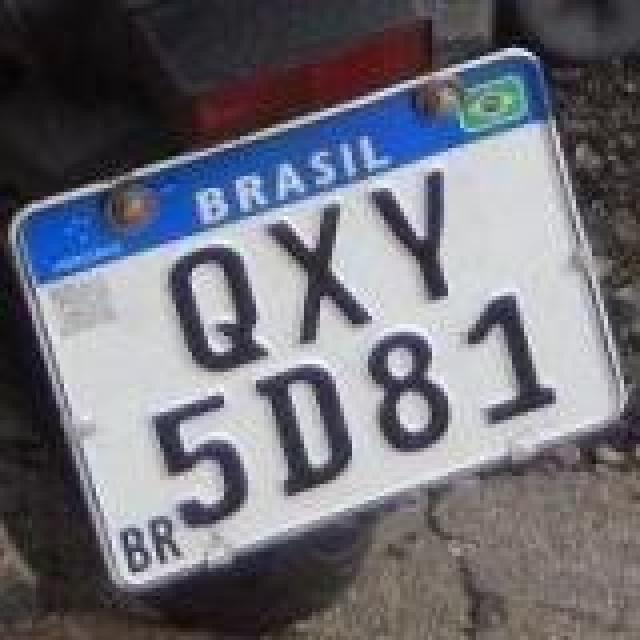1: (464, 292, 560, 428)
5: (150, 392, 250, 528)
8: (362, 330, 454, 454)
D: (252, 364, 356, 500)
Q: (166, 244, 274, 372)
X: (266, 200, 374, 344)
Y: (368, 170, 448, 302)
